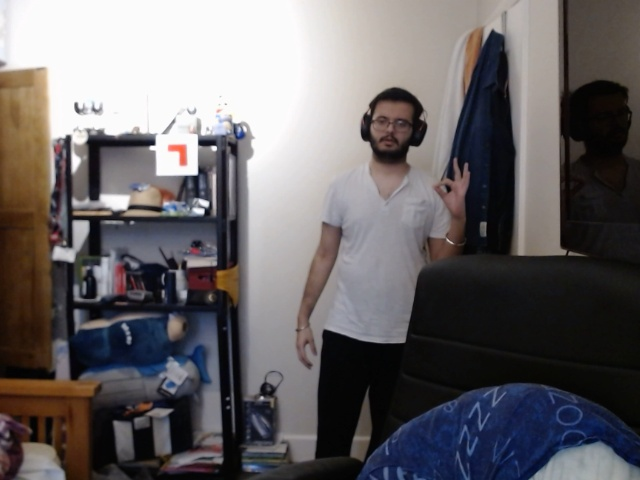Okay: (432, 153, 481, 231)
